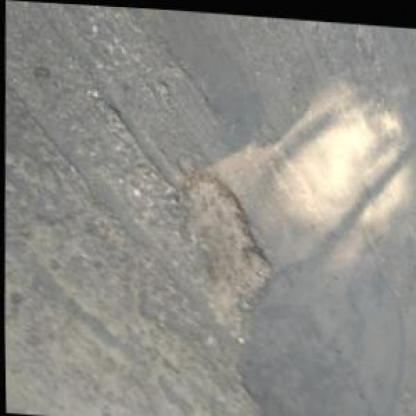pothole: (173, 170, 274, 342)
